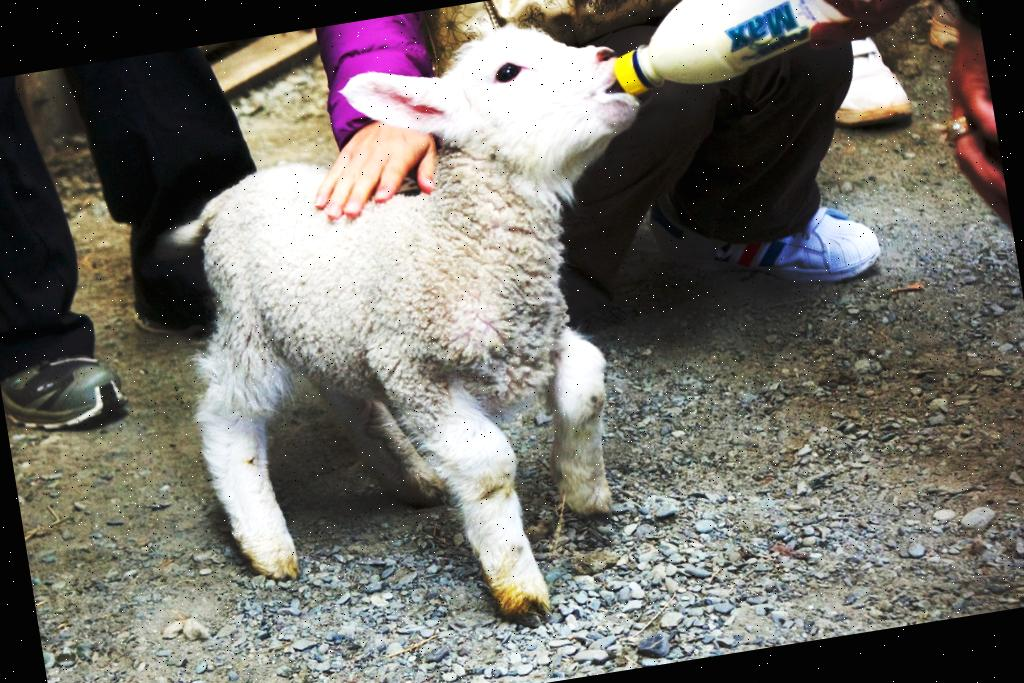Sheep: (130, 0, 730, 673)
